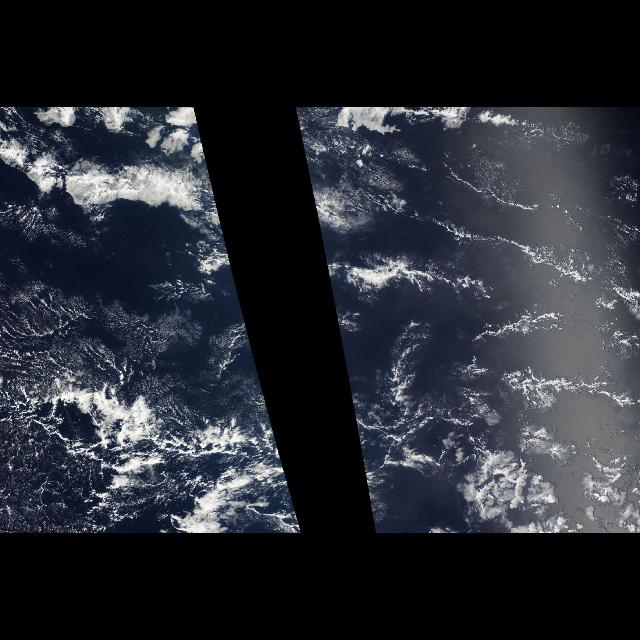Fish: (368, 320, 638, 452), (442, 138, 636, 316)
Flower: (1, 110, 222, 228), (296, 110, 438, 228)
Sugar: (4, 258, 270, 408), (326, 258, 360, 408)
